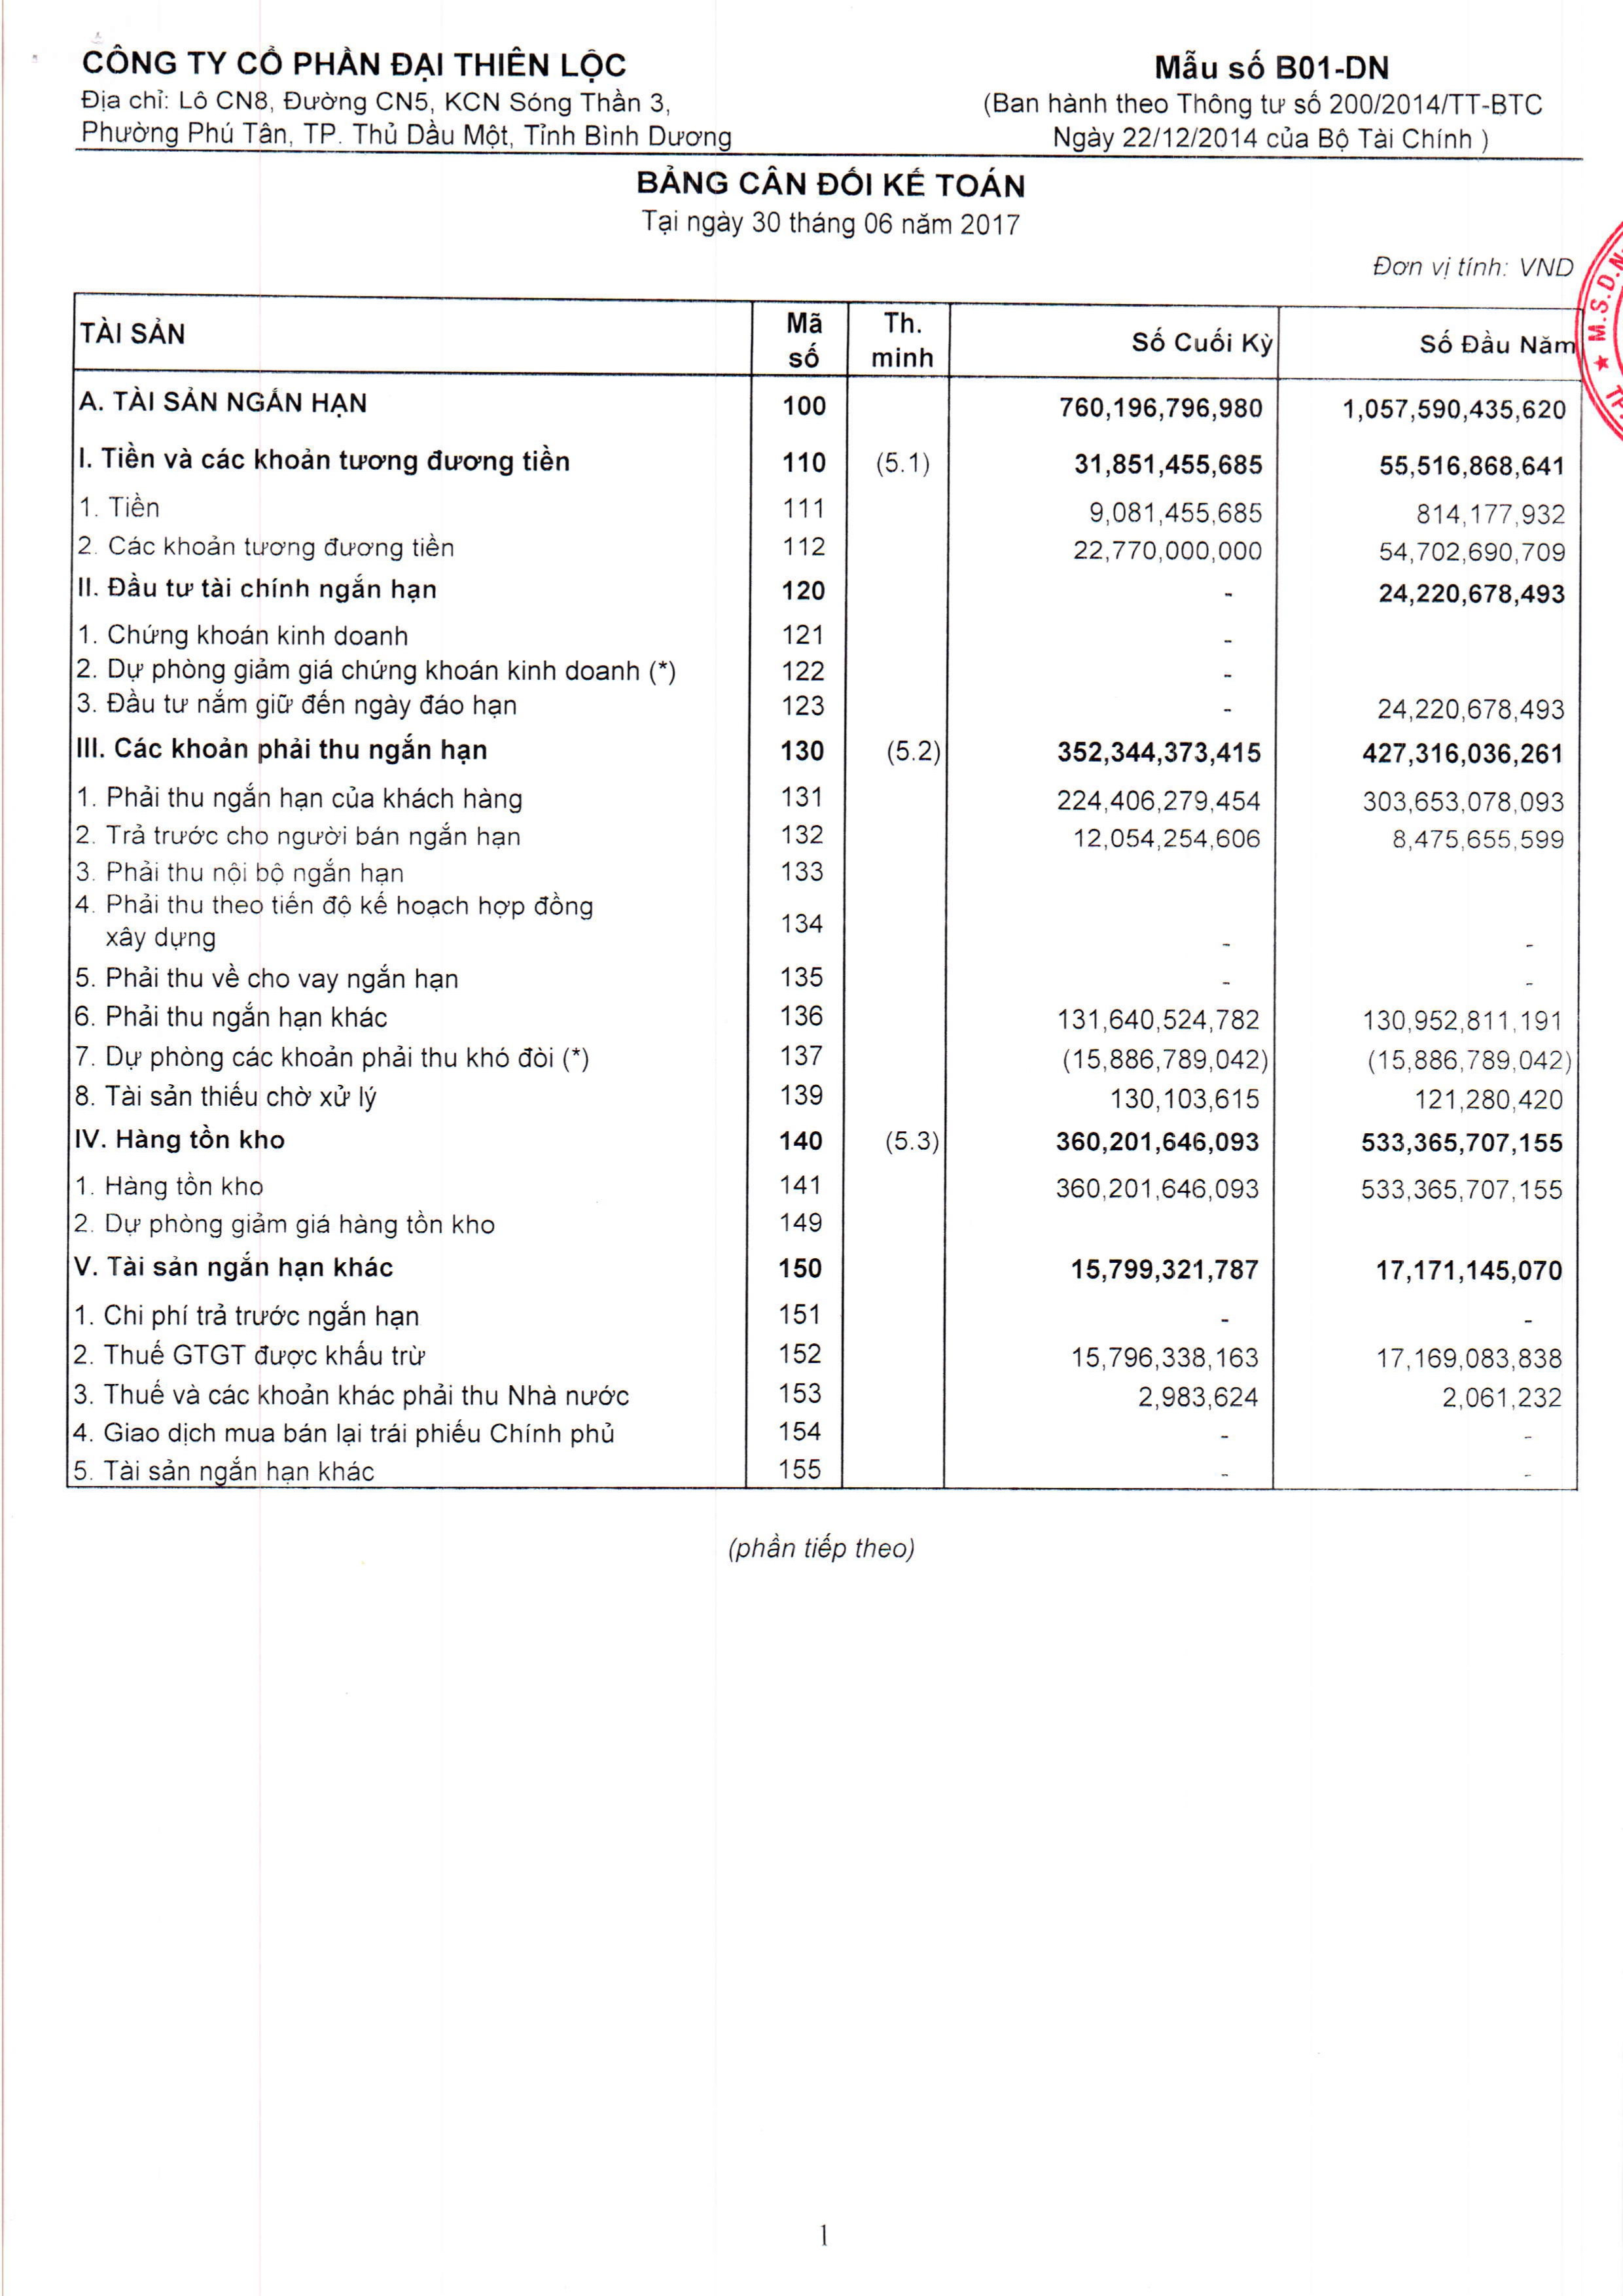table: (53, 286, 1597, 1504)
table column: (72, 286, 717, 1504), (1310, 286, 1577, 1504), (1001, 286, 1266, 1504), (876, 286, 961, 1504), (792, 286, 864, 1504)
table column header: (53, 298, 1597, 393)
table row: (53, 893, 1597, 962), (53, 316, 1597, 381), (53, 395, 1597, 437), (53, 781, 1597, 822), (53, 1118, 1597, 1159), (53, 453, 1597, 491), (53, 964, 1597, 1002), (53, 1078, 1597, 1116), (53, 1166, 1597, 1204), (53, 1297, 1597, 1336), (53, 1371, 1597, 1410), (53, 499, 1597, 535), (53, 537, 1597, 574), (53, 576, 1597, 613), (53, 623, 1597, 660), (53, 1002, 1597, 1039), (53, 1206, 1597, 1243), (53, 1248, 1597, 1285), (53, 693, 1597, 728), (53, 737, 1597, 772), (53, 822, 1597, 857), (53, 858, 1597, 893), (53, 1043, 1597, 1078), (53, 1411, 1597, 1446), (53, 1338, 1597, 1371), (53, 1448, 1597, 1482), (53, 662, 1597, 692)
